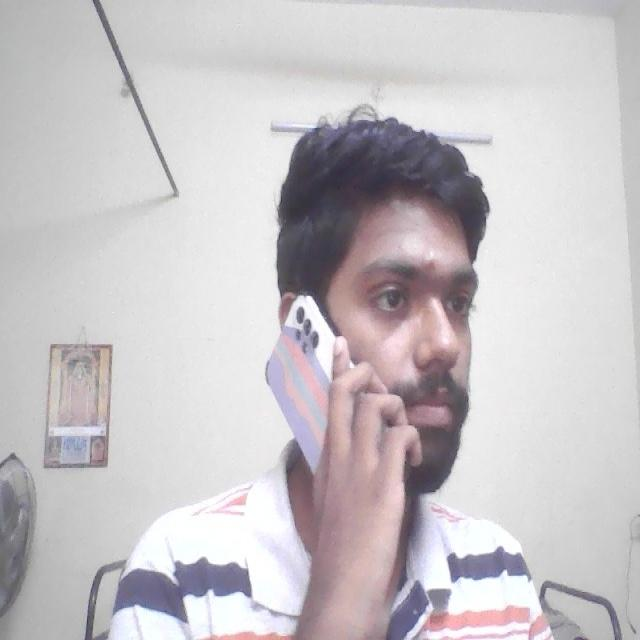Mobile: (257, 272, 358, 471)
